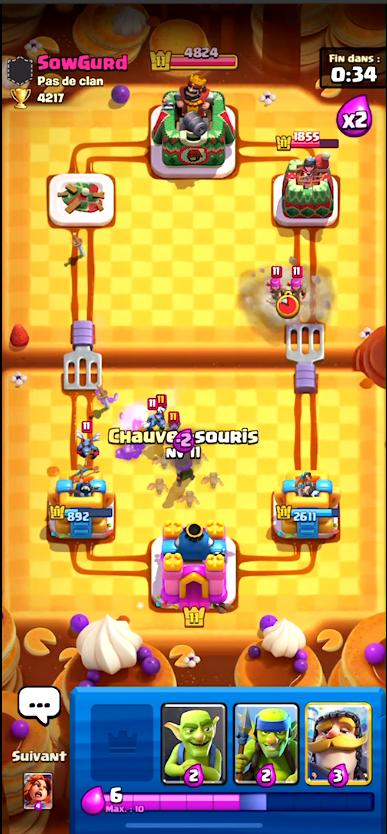archere: (287, 267, 309, 297), (266, 266, 284, 295)
gargouille: (77, 423, 101, 456), (145, 396, 165, 431)
